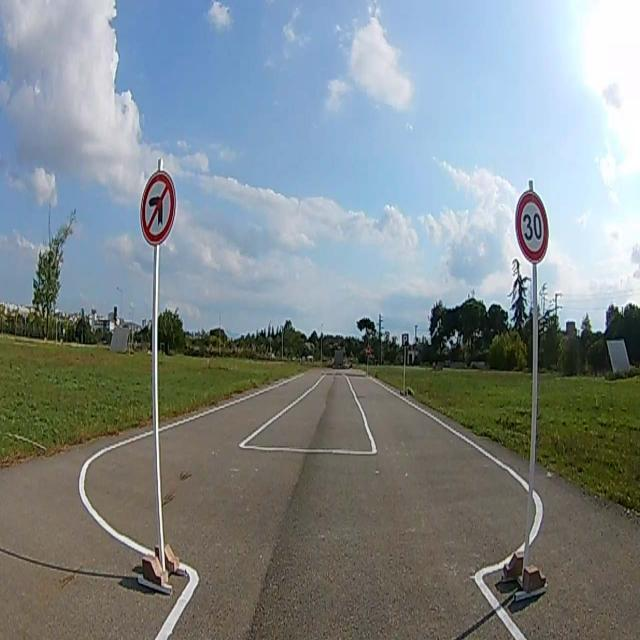30: (518, 191, 548, 262)
soladonulmez: (142, 176, 176, 240)
